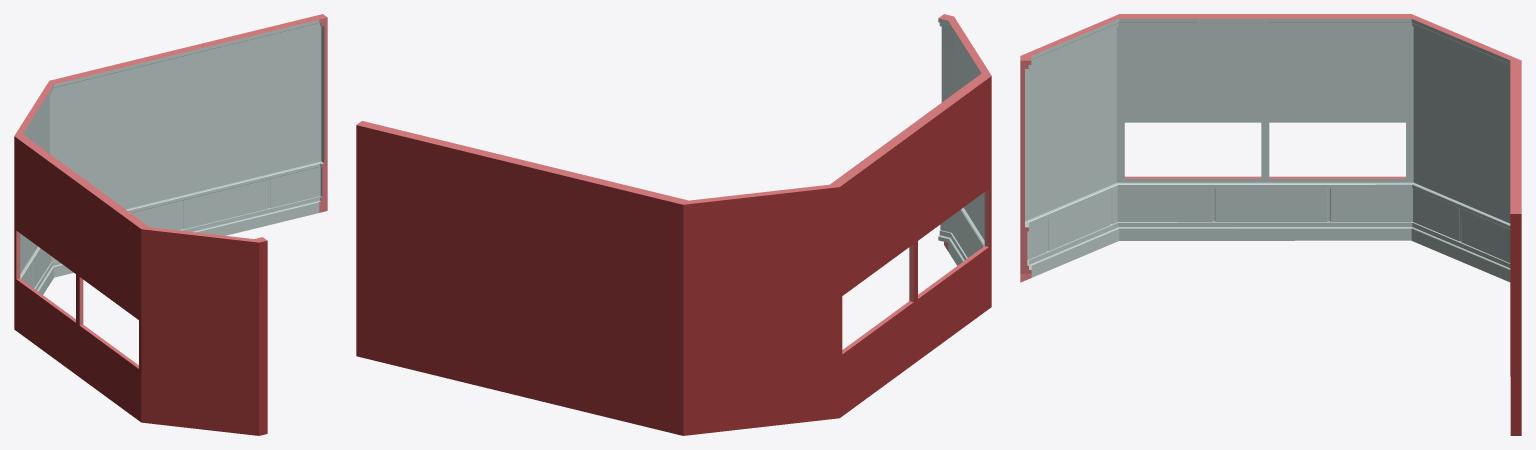
The model's file is Bedroom_Wall.fbx.
3 views of the same model, side by side, from view 1: azimuth 30°, elevation 25°; view 2: azimuth 150°, elevation 25°; view 3: azimuth 270°, elevation 25° (orthographic). The views are drawn at different scales.
Parts seen in each view (by area): view 1: polySurface296; view 2: polySurface296; view 3: polySurface296.
Part boxes in pixels (box(x1,y1,x2,y2)): polySurface296: box(14, 14, 327, 435); polySurface296: box(356, 14, 991, 435); polySurface296: box(1020, 14, 1521, 435).
Bounding box in the file's own units: 100 × 52.02 × 106.
